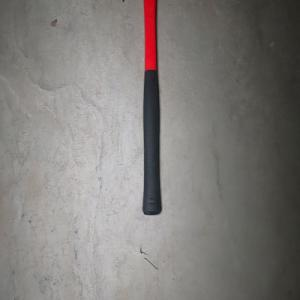Hammer: (122, 0, 180, 216)
